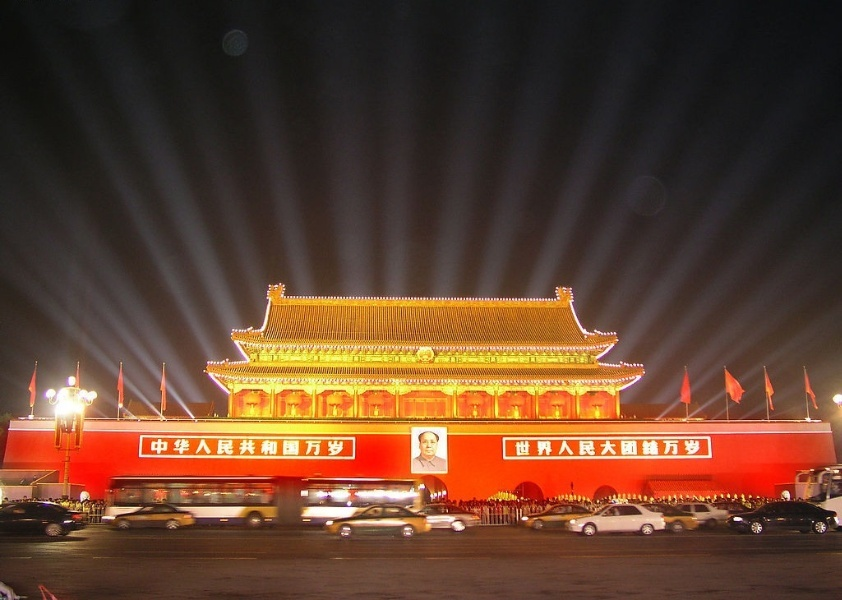text: (161, 438, 176, 458), (177, 438, 192, 458), (193, 438, 208, 458), (209, 438, 224, 458), (225, 438, 240, 458), (241, 438, 256, 458), (257, 438, 272, 458), (273, 438, 288, 458), (289, 438, 304, 458), (305, 438, 320, 458), (321, 438, 336, 458), (529, 440, 544, 457), (545, 440, 560, 457), (561, 440, 576, 457), (577, 440, 592, 457), (593, 440, 608, 457), (609, 440, 624, 457), (625, 440, 640, 457), (641, 440, 656, 457), (657, 440, 672, 457), (673, 440, 688, 457), (515, 440, 528, 457), (689, 440, 701, 457), (150, 438, 160, 458), (337, 438, 344, 458)
